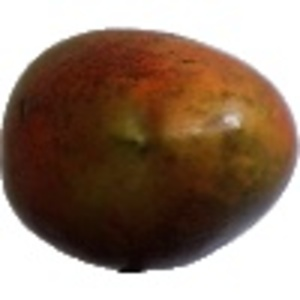manga: (1, 28, 300, 272)
